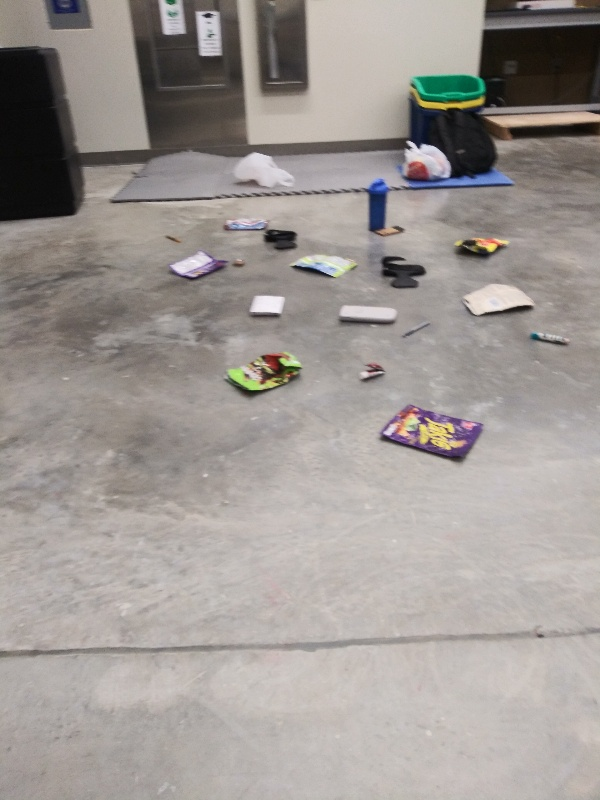bag: (373, 403, 492, 468), (221, 347, 305, 397), (163, 243, 233, 283), (286, 249, 362, 284), (448, 228, 515, 261), (220, 211, 273, 235)
